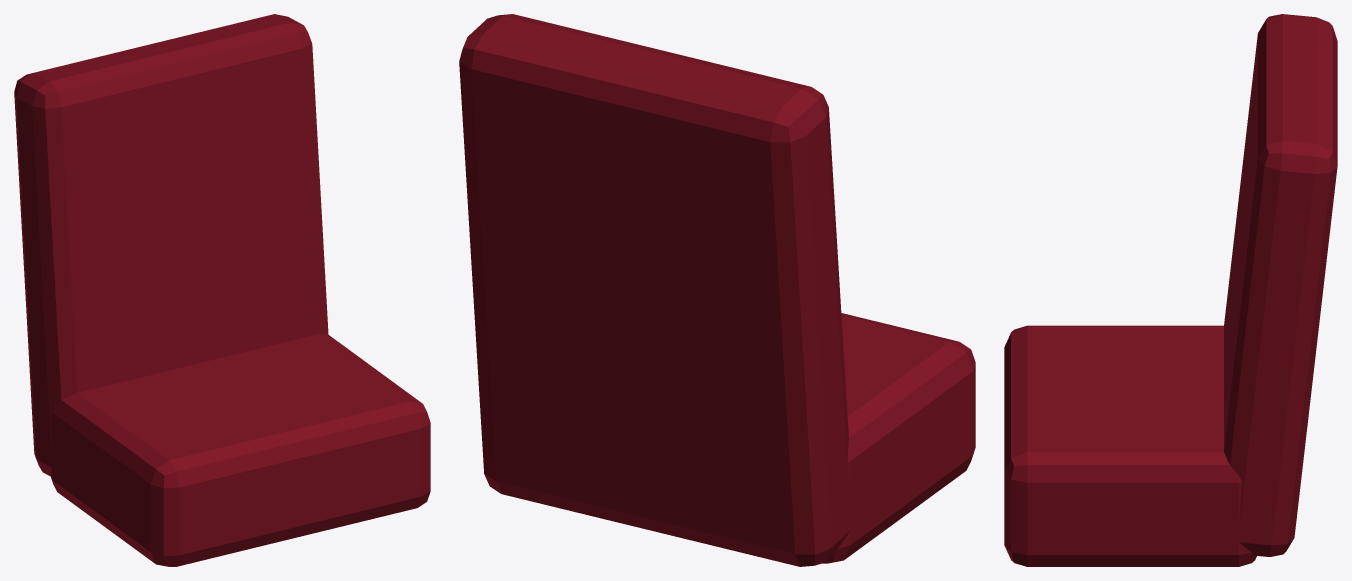
Rendered from Throne.fbx.
3 renders of one model, left to right at view 1: azimuth 30°, elevation 25°; view 2: azimuth 150°, elevation 25°; view 3: azimuth 270°, elevation 25°, orthographic. The views are drawn at different scales.
Parts seen in each view (by area): view 1: ThroneSeat.001; view 2: ThroneSeat.001; view 3: ThroneSeat.001.
Boxes of the visible parts, bbox=[...] form: ThroneSeat.001: bbox=[14, 14, 430, 566]; ThroneSeat.001: bbox=[459, 14, 975, 566]; ThroneSeat.001: bbox=[1004, 14, 1337, 566].
Size of the model in its own units: 600 by 821 by 582.
